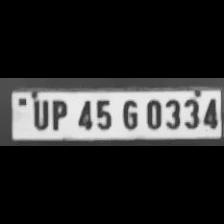0: (142, 96, 162, 130)
3: (162, 96, 182, 130), (180, 96, 200, 130)
4: (72, 97, 94, 131), (200, 96, 220, 128)
5: (92, 97, 114, 131)
G: (116, 96, 140, 130)
P: (48, 97, 70, 130)
U: (28, 97, 50, 130)
